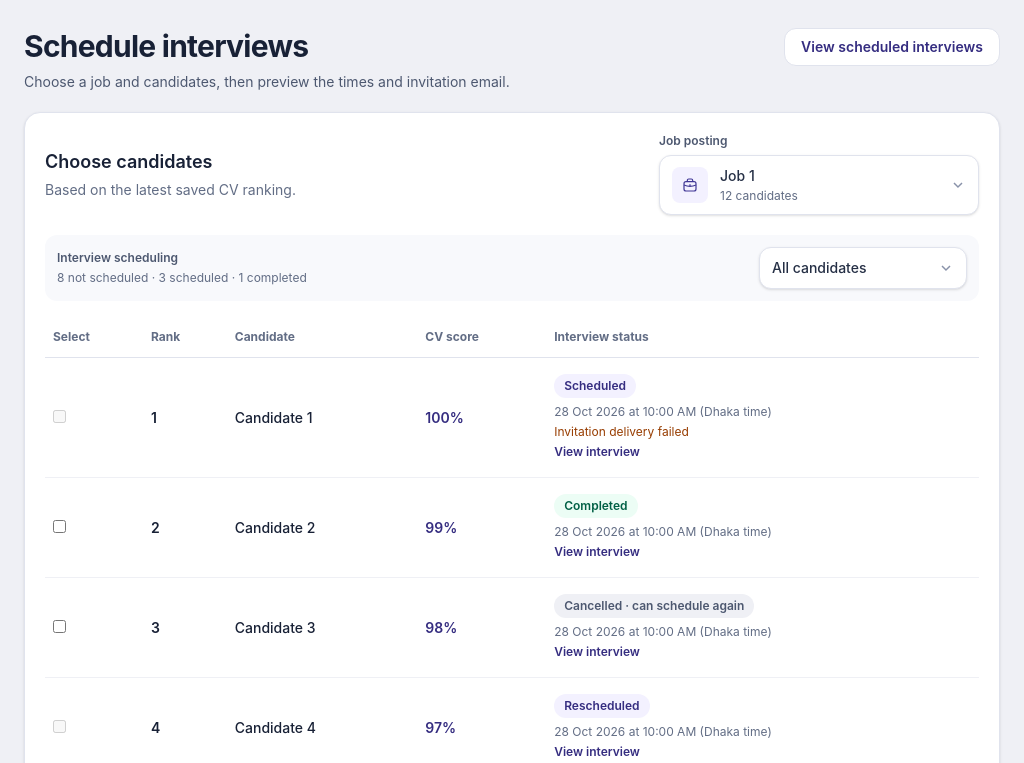
Scenario: shows persisted interview states and times, blocking duplicate invitations even after delivery failure
Expected: the text "Candidate 1" is shown, [227,358,417,478]
Expected: the text "Scheduled" is shown, [554,374,636,398]
What coordinates should you click on to do the following:
click the dropdown named "Interview status"
I would click on:
 (863, 268)
Its box is [759,247,967,289].
(page scrolled)
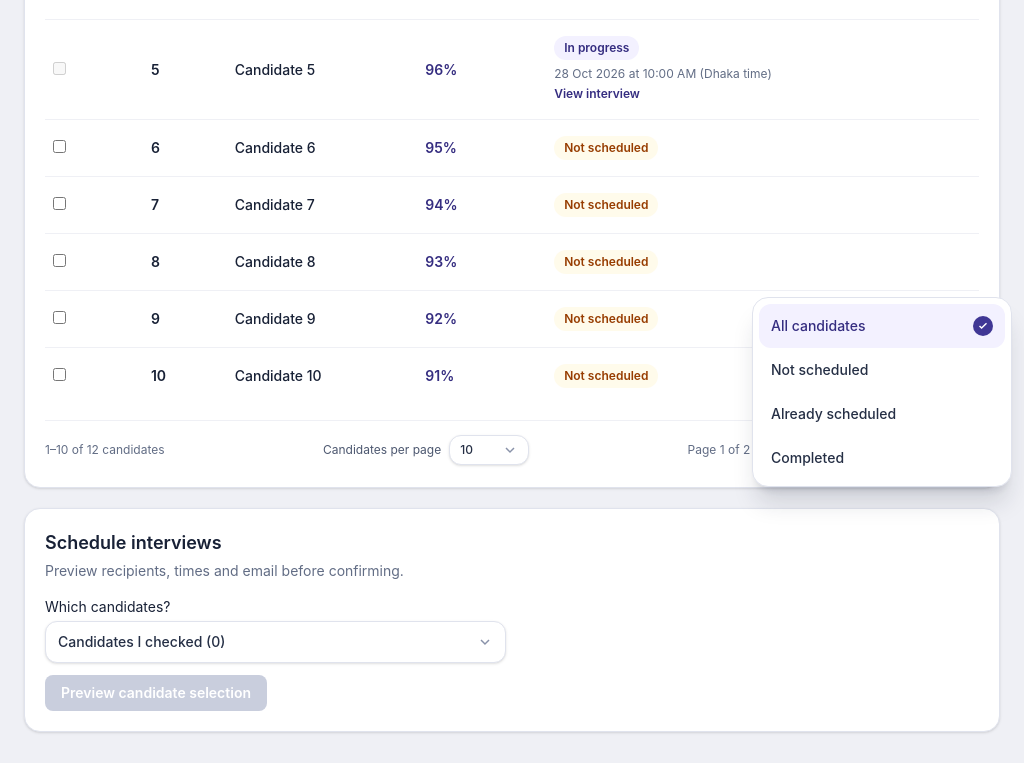
What coordinates should you click on to do the following:
click the option "Not scheduled"
I would click on:
 (820, 370)
Its box is [771,361,990,378].
(page scrolled)
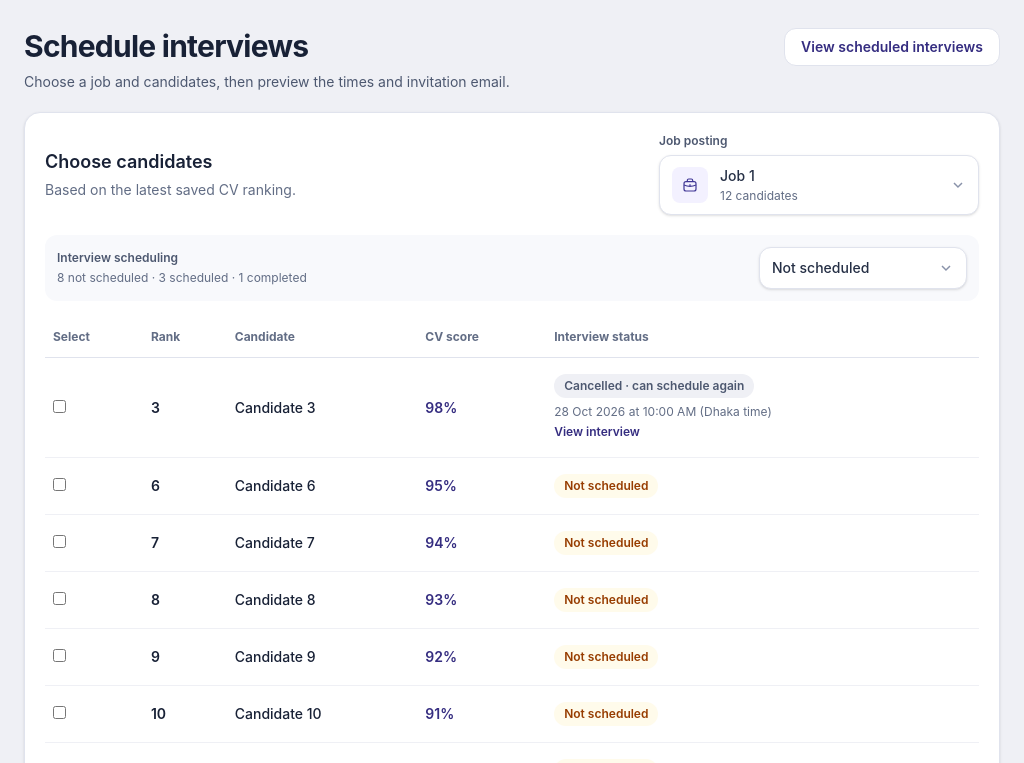
Expected: the text "Candidate 3" is shown, [227,358,417,458]
What coordinates should you click on to do the following:
click the dropdown named "Interview status"
I would click on:
 (863, 268)
Its box is [759,247,967,289].
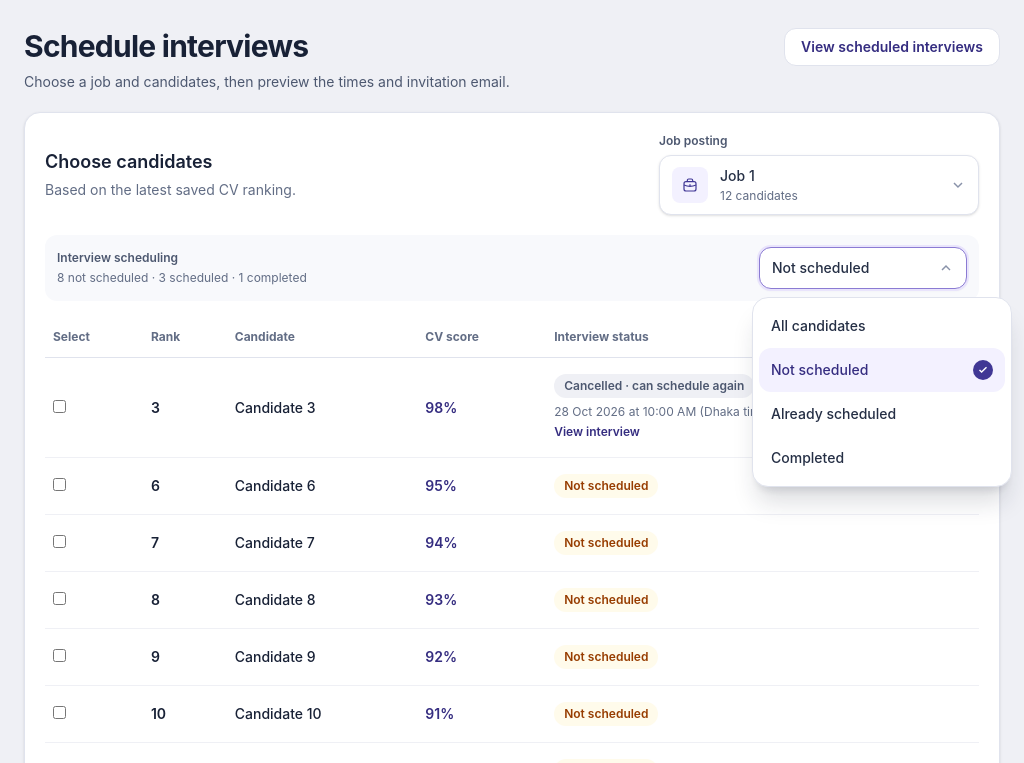
What coordinates should you click on to do the following:
click the option "Completed"
I would click on:
 (808, 458)
Its box is [771,449,990,466].
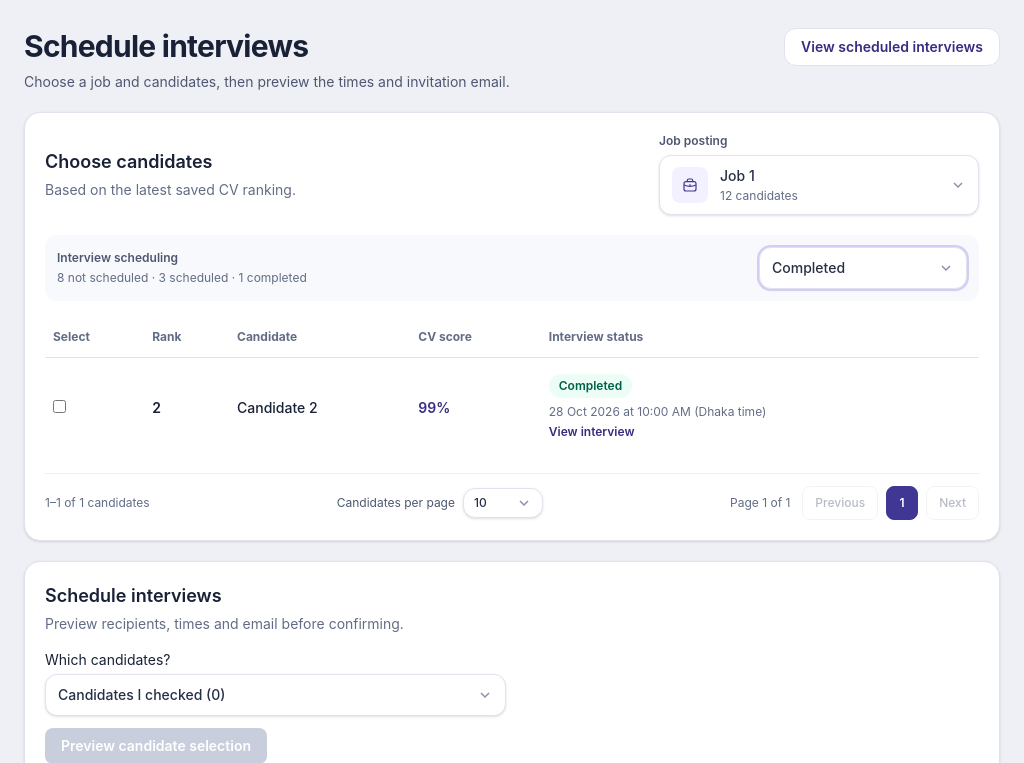
Now the text "Candidate 2" is shown, box [229,358,410,457]
Now the text "Candidate 3" is gone
